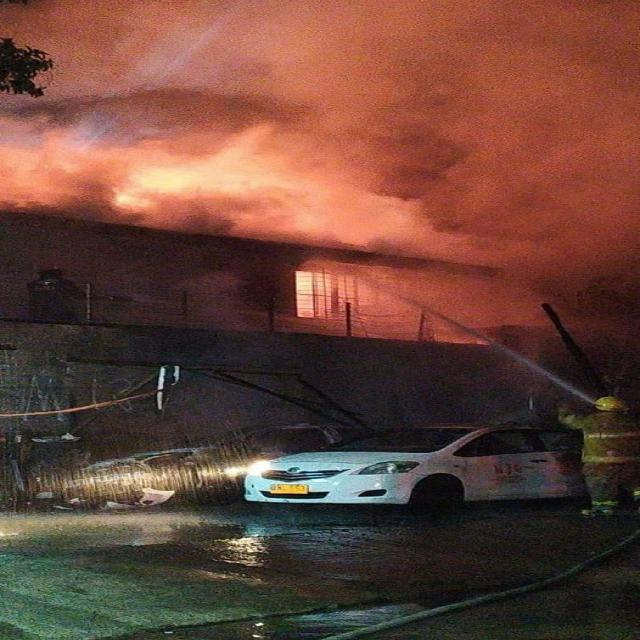Fire: (0, 132, 374, 224)
Smoke: (97, 9, 640, 233), (432, 220, 620, 315)
